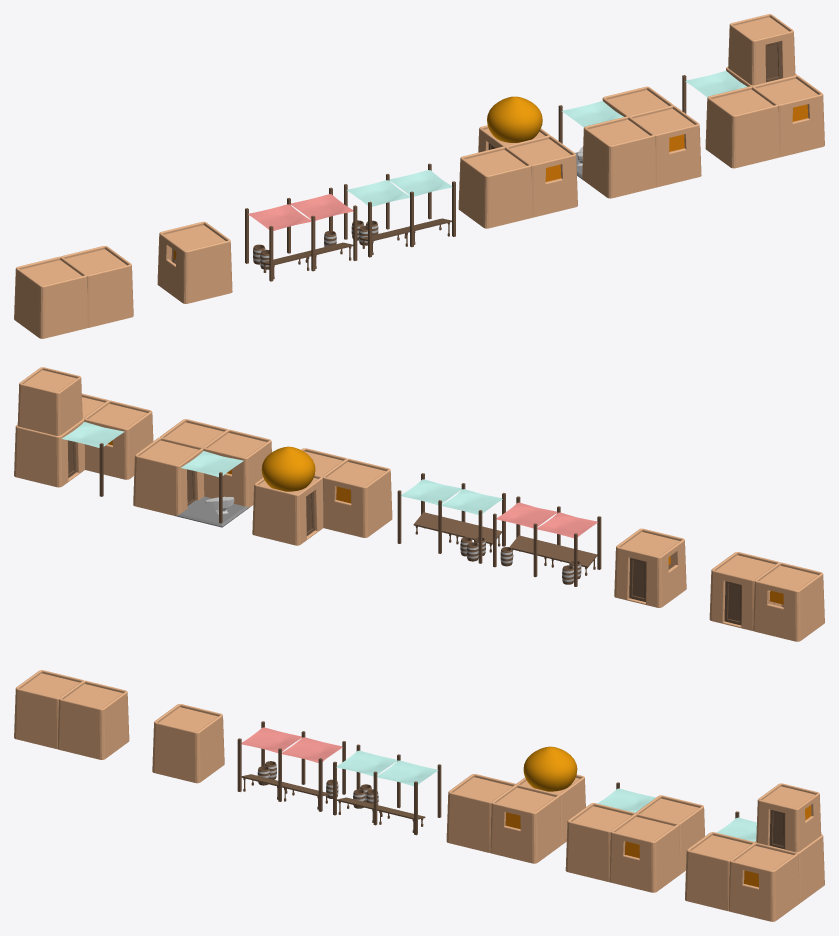
3 views of the same model, one above another, from view 1: azimuth 30°, elevation 25°; view 2: azimuth 150°, elevation 25°; view 3: azimuth 330°, elevation 25° (orthographic). The views are drawn at different scales.
Parts seen in each view (by area): view 1: B1.010, B1.012, B1.002, B1.008, B1.004, Cylinder, B1.011, B1.006, B1.001, B1.003, B1.007, Sphere (+8 smaller); view 2: B1.012, Cylinder, B1.008, B1.010, B1, B1.006, B1.009, B1.004, B1.005, B1.002, B1.011, Sphere (+10 smaller); view 3: B1.010, B1.011, B1.001, B1.007, B1.003, Cylinder, B1.004, B1.008, B1.002, B1.012, B1.006, B1 (+9 smaller).
Boxes of the visible parts, box(x1,y1,x2,y2) form: B1.010: box(157, 221, 232, 303); B1.012: box(14, 256, 87, 338); B1.002: box(582, 116, 655, 198); B1.008: box(458, 146, 532, 228); B1.004: box(705, 86, 779, 168); Cylinder: box(344, 163, 455, 257); B1.011: box(61, 246, 133, 327); B1.006: box(728, 14, 795, 85); B1.001: box(628, 105, 701, 187); B1.003: box(752, 75, 824, 157); B1.007: box(505, 135, 577, 217); Sphere: box(487, 96, 542, 142); B1.012: box(753, 562, 824, 641); Cylinder: box(397, 473, 505, 563); B1.008: box(322, 458, 392, 537); B1.010: box(614, 528, 686, 607); B1: box(133, 437, 204, 515); B1.006: box(17, 367, 82, 435); B1.009: box(252, 474, 323, 545); B1.004: box(84, 400, 153, 479); B1.005: box(14, 418, 84, 487); B1.002: box(203, 429, 271, 507); B1.011: box(709, 552, 781, 630); Sphere: box(261, 446, 315, 491); B1.010: box(152, 704, 224, 783); B1.011: box(57, 680, 129, 759); B1.001: box(609, 813, 680, 892); B1.007: box(490, 784, 561, 863); B1.003: box(729, 842, 799, 921); Cylinder: box(333, 744, 441, 835); B1.004: box(685, 832, 755, 911); B1.008: box(446, 774, 516, 852); B1.002: box(565, 803, 635, 882); B1.012: box(14, 670, 83, 749); B1.006: box(756, 783, 821, 852); B1: box(635, 795, 704, 873).
Size of the model in its own units: 3187 by 370 by 393.
